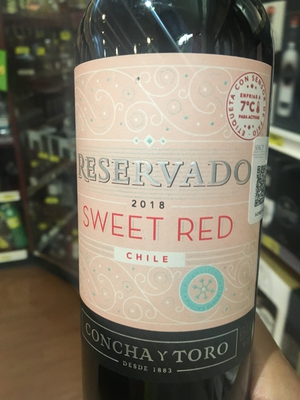reservado sweet red: (69, 17, 273, 400)
